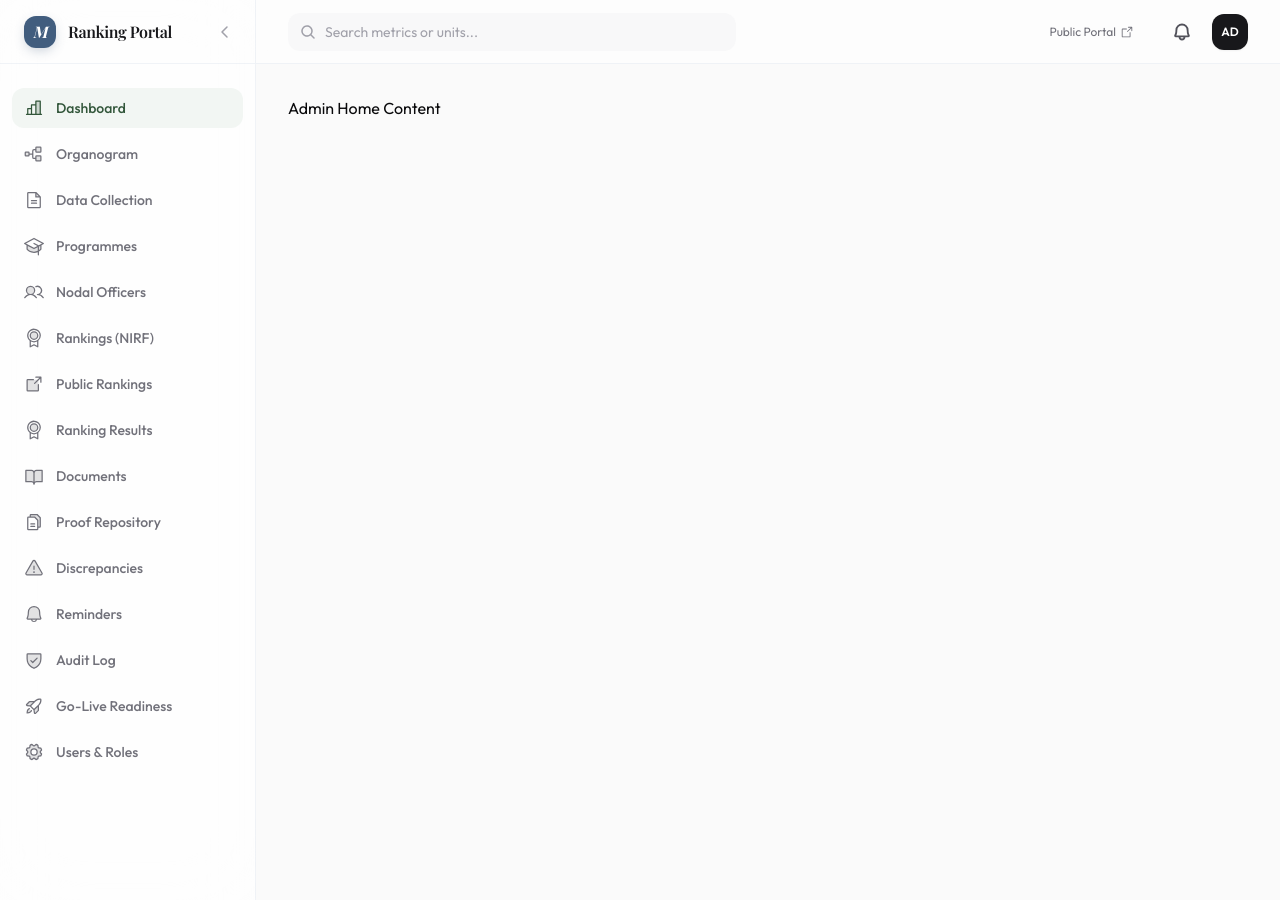
Test: DashboardLayout › navigates between pages using the sidebar
Click the link "Organogram" at (81, 154), box [24, 144, 138, 164]
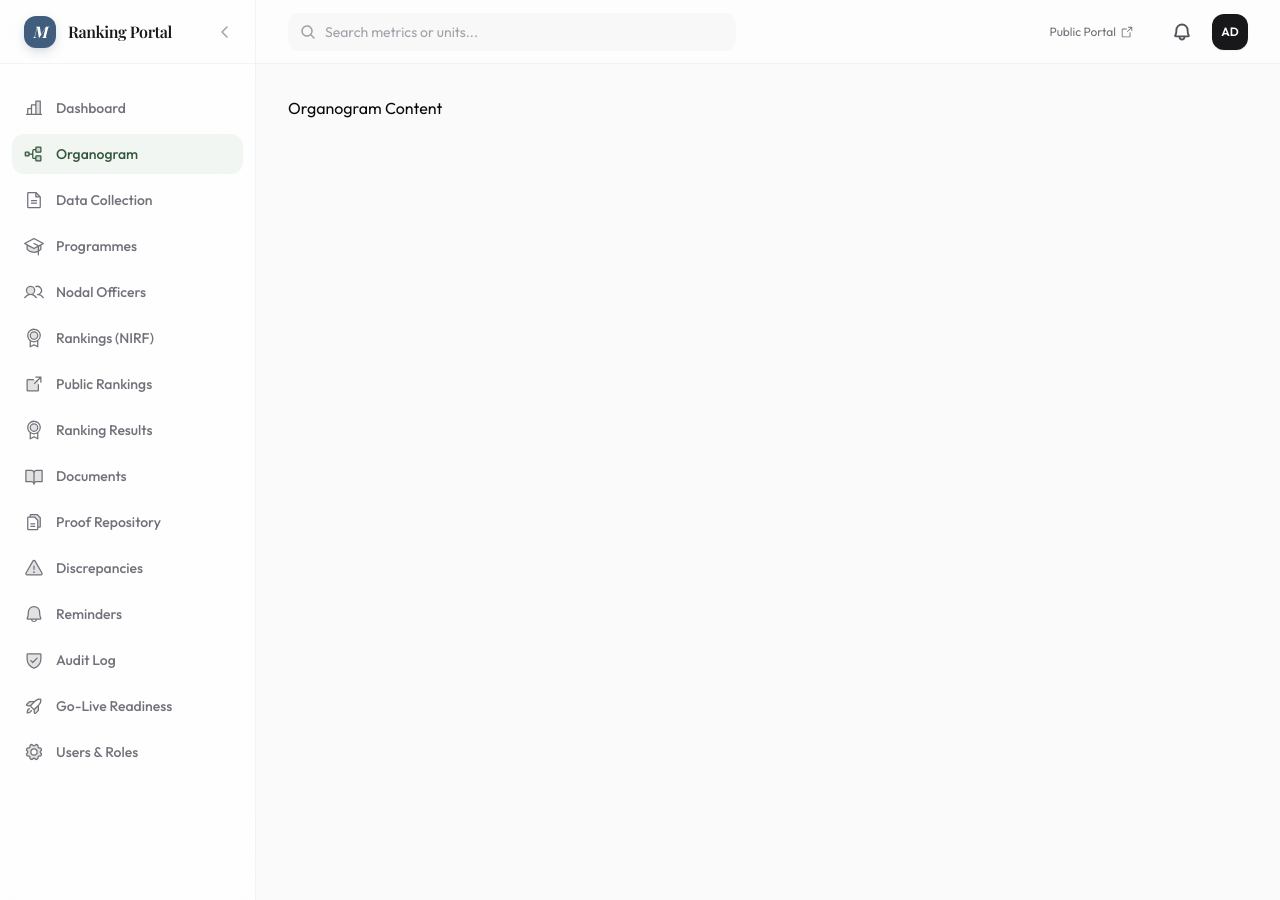
Check: the text "Organogram Content" is shown, box [288, 98, 442, 118]
